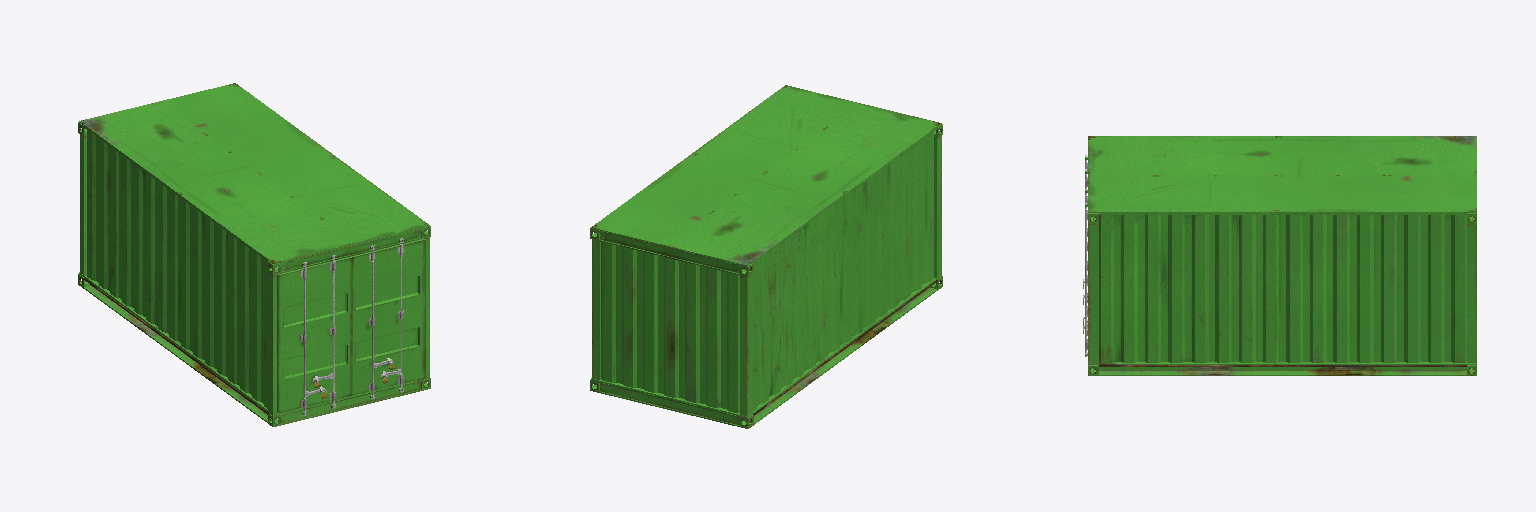
3 renders of one model, left to right at view 1: azimuth 30°, elevation 25°; view 2: azimuth 150°, elevation 25°; view 3: azimuth 270°, elevation 25°, orthographic.
Visible parts, largest first — view 1: Box292, Line71, Box239, Box256, Line72, Box291, Box294, Box290, Box287, Box293, Box230; view 2: Box292, Line71, Line67, Line72, Box289, Box288, Box287, Box233, Box293, Box290; view 3: Line68, Box292, Line69, Box230, Box233, Box293.
Part boxes in pixels (left/top/right/bottom): Box292: left=79, top=83, right=429, bottom=263; Line71: left=87, top=130, right=271, bottom=408; Box239: left=277, top=257, right=351, bottom=412; Box256: left=351, top=239, right=425, bottom=394; Line72: left=84, top=278, right=271, bottom=422; Box291: left=268, top=226, right=430, bottom=275; Box294: left=268, top=378, right=430, bottom=426; Box290: left=268, top=272, right=276, bottom=415; Box287: left=80, top=135, right=86, bottom=275; Box293: left=79, top=272, right=425, bottom=414; Box230: left=425, top=237, right=429, bottom=378; Box292: left=591, top=85, right=941, bottom=266; Line71: left=750, top=132, right=933, bottom=411; Line67: left=601, top=242, right=739, bottom=412; Line72: left=750, top=280, right=937, bottom=424; Box289: left=590, top=380, right=753, bottom=428; Box288: left=590, top=228, right=753, bottom=276; Box287: left=740, top=275, right=751, bottom=416; Box233: left=592, top=240, right=600, bottom=379; Box293: left=591, top=278, right=936, bottom=417; Box290: left=934, top=136, right=941, bottom=279; Line68: left=1099, top=215, right=1466, bottom=362; Box292: left=1088, top=136, right=1476, bottom=214; Line69: left=1099, top=365, right=1466, bottom=375; Box230: left=1088, top=225, right=1098, bottom=364; Box233: left=1467, top=225, right=1476, bottom=362; Box293: left=1099, top=362, right=1476, bottom=364.
Size of the model in its own units: 2.76 by 2.73 by 5.97.
4 materials, 3 textured.